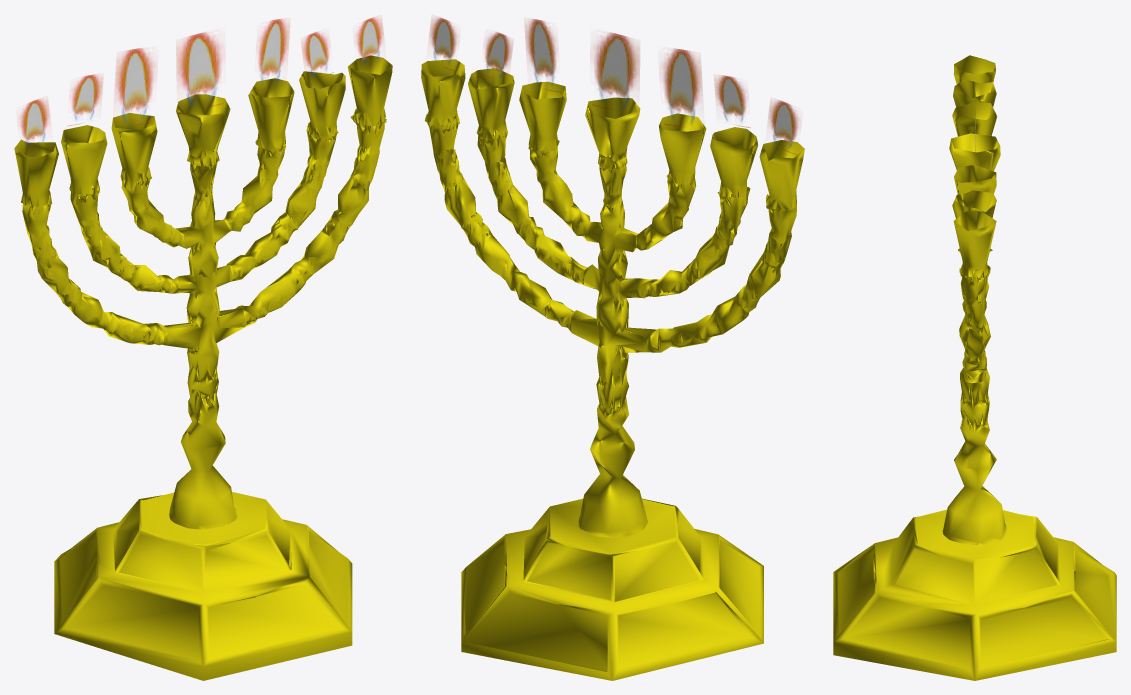
Rendered from menorah.glb.
The picture shows the model from 3 angles, left to right: view 1: azimuth 30°, elevation 25°; view 2: azimuth 150°, elevation 25°; view 3: azimuth 270°, elevation 25°; orthographic projection. The views are drawn at different scales.
Parts seen in each view (by area): view 1: menorah, flame.png; view 2: menorah, flame.png; view 3: menorah.
Boxes of the visible parts, left/top/right/bottom form: menorah: left=14, top=55, right=392, bottom=680; flame.png: left=20, top=17, right=383, bottom=152; menorah: left=421, top=59, right=804, bottom=680; flame.png: left=429, top=17, right=798, bottom=154; menorah: left=833, top=55, right=1116, bottom=680.
Size of the model in its own units: 4.32 by 6.36 by 2.98.
2 materials, 1 textured.
